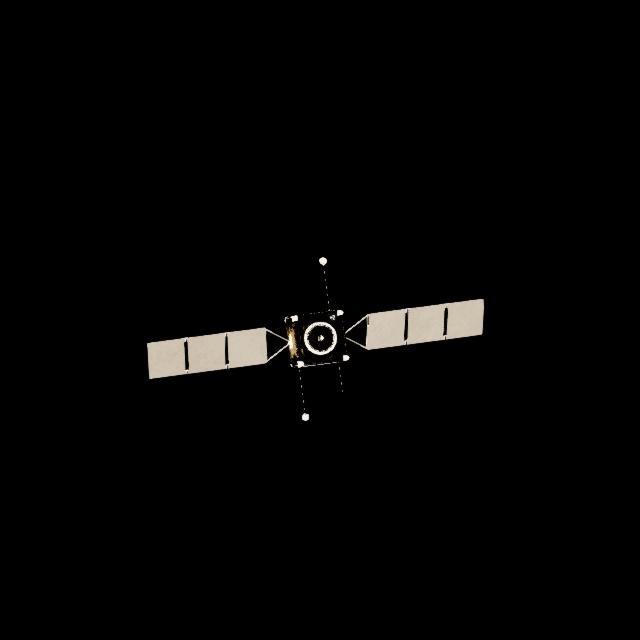medium_debris: (146, 299, 485, 380)
